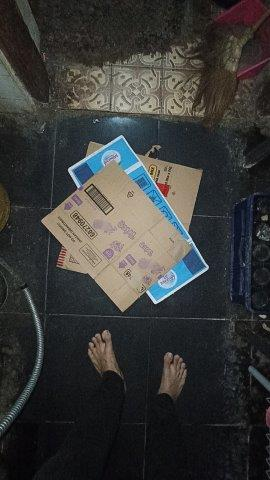kardus: (43, 136, 208, 311)
